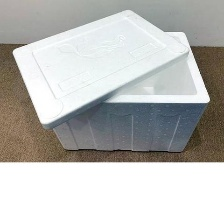foam_box: (9, 4, 214, 156), (9, 5, 193, 132)
